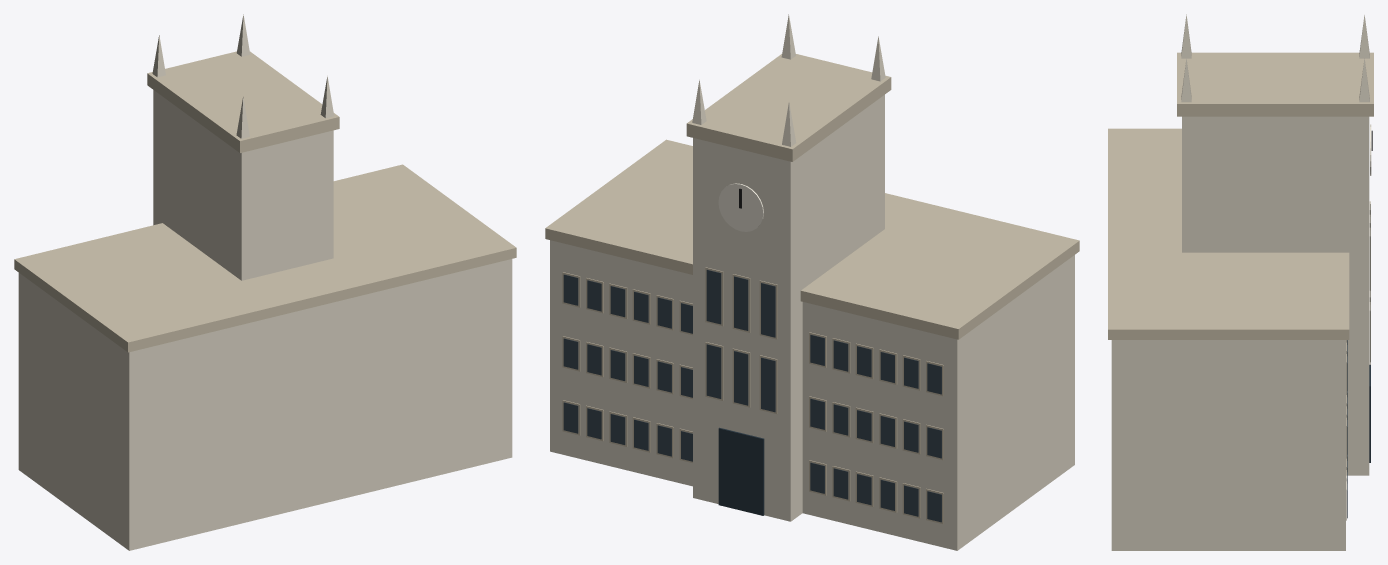
Rendered from ntu.glb.
3 renders of one model, left to right at view 1: azimuth 30°, elevation 25°; view 2: azimuth 150°, elevation 25°; view 3: azimuth 270°, elevation 25°, orthographic. The views are drawn at different scales.
Visible parts, largest first — view 1: ntu; view 2: ntu; view 3: ntu.
Boxes of the visible parts, x1,y1,x2,y2 form: ntu: (14, 14, 516, 550); ntu: (545, 14, 1079, 550); ntu: (1108, 14, 1373, 550).
Size of the model in its own units: 20.3 by 19.6 by 11.35.
